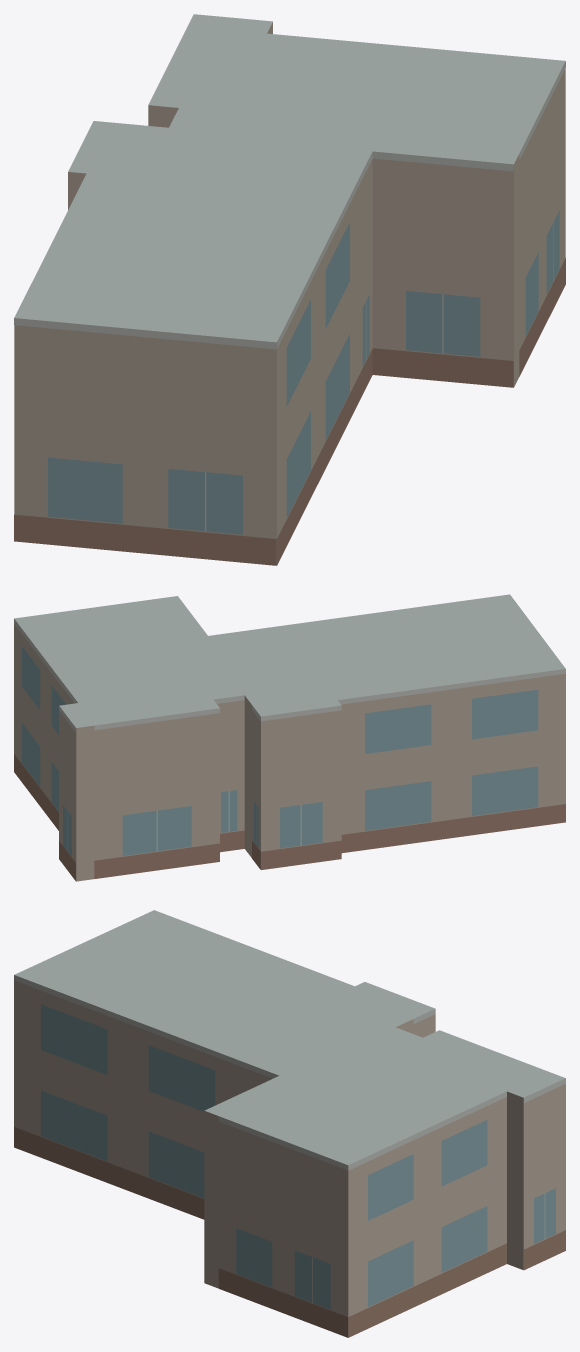
The model's file is survey-upis-32468661.glb.
3 renders of one model, top to bottom at view 1: azimuth 30°, elevation 25°; view 2: azimuth 150°, elevation 25°; view 3: azimuth 270°, elevation 25°, orthographic. The views are drawn at different scales.
Visible parts, largest first — view 1: survey-upis-32468661.tmp; view 2: survey-upis-32468661.tmp; view 3: survey-upis-32468661.tmp.
Boxes of the visible parts, x1=… form: survey-upis-32468661.tmp: x1=14, y1=14, x2=565, y2=565; survey-upis-32468661.tmp: x1=14, y1=594, x2=565, y2=881; survey-upis-32468661.tmp: x1=14, y1=910, x2=565, y2=1337.
Bounding box in the file's own units: 24.57 × 7.74 × 22.44.
